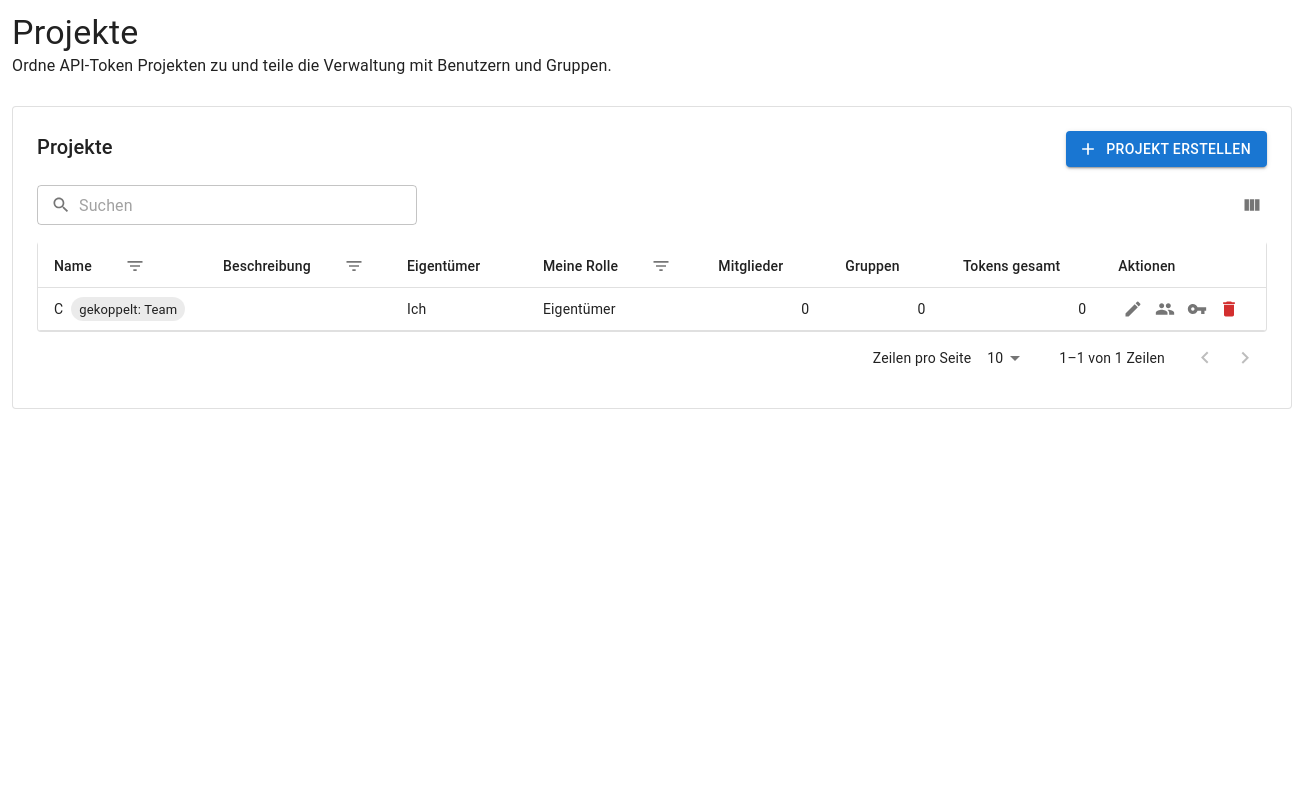
Test case: a coupled project's members sub-view is read-only (no add/transfer, no row actions on either table)
Click the button named "Mitglieder verwalten" at x=1165, y=310, box [1150,294,1180,324]
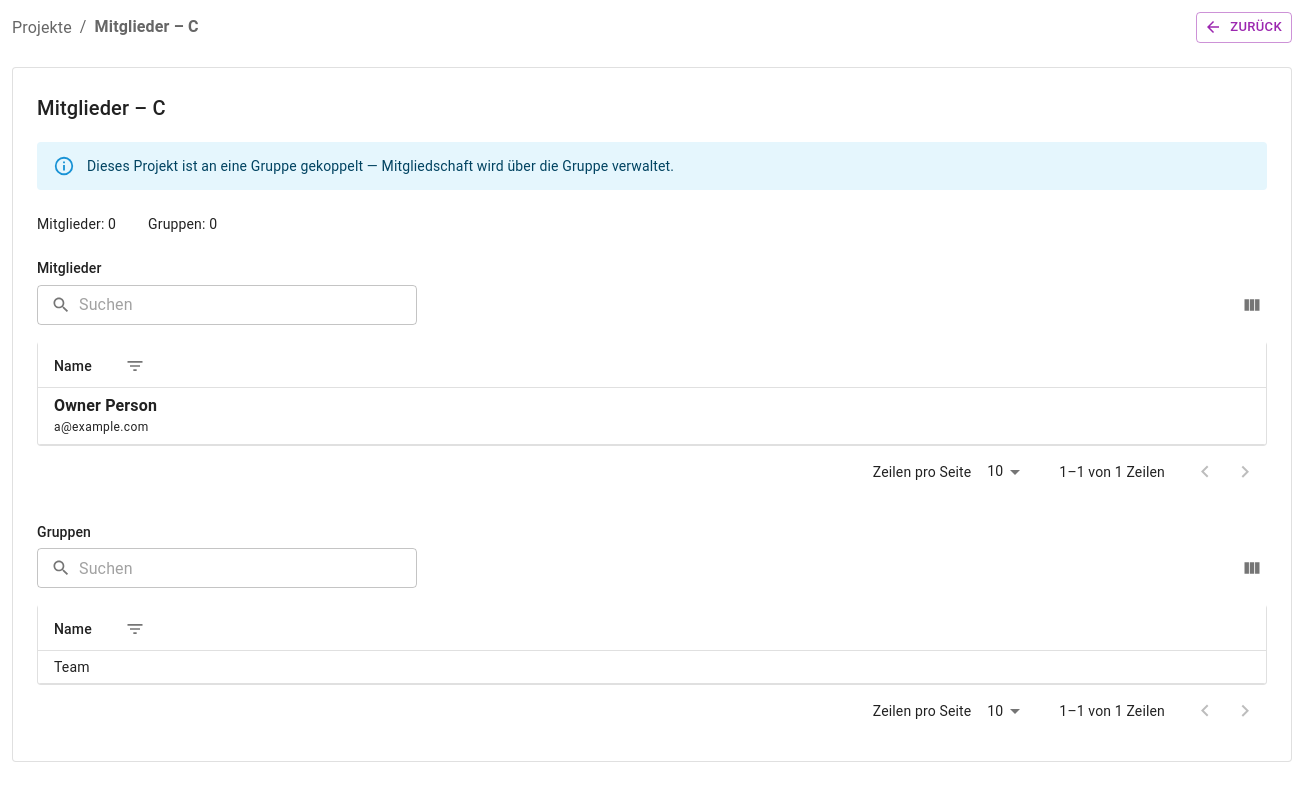
Expected: the text "Team" is shown, [38,651,1266,684]
Expected: the text "Owner Person" is shown, [54,396,157,415]
